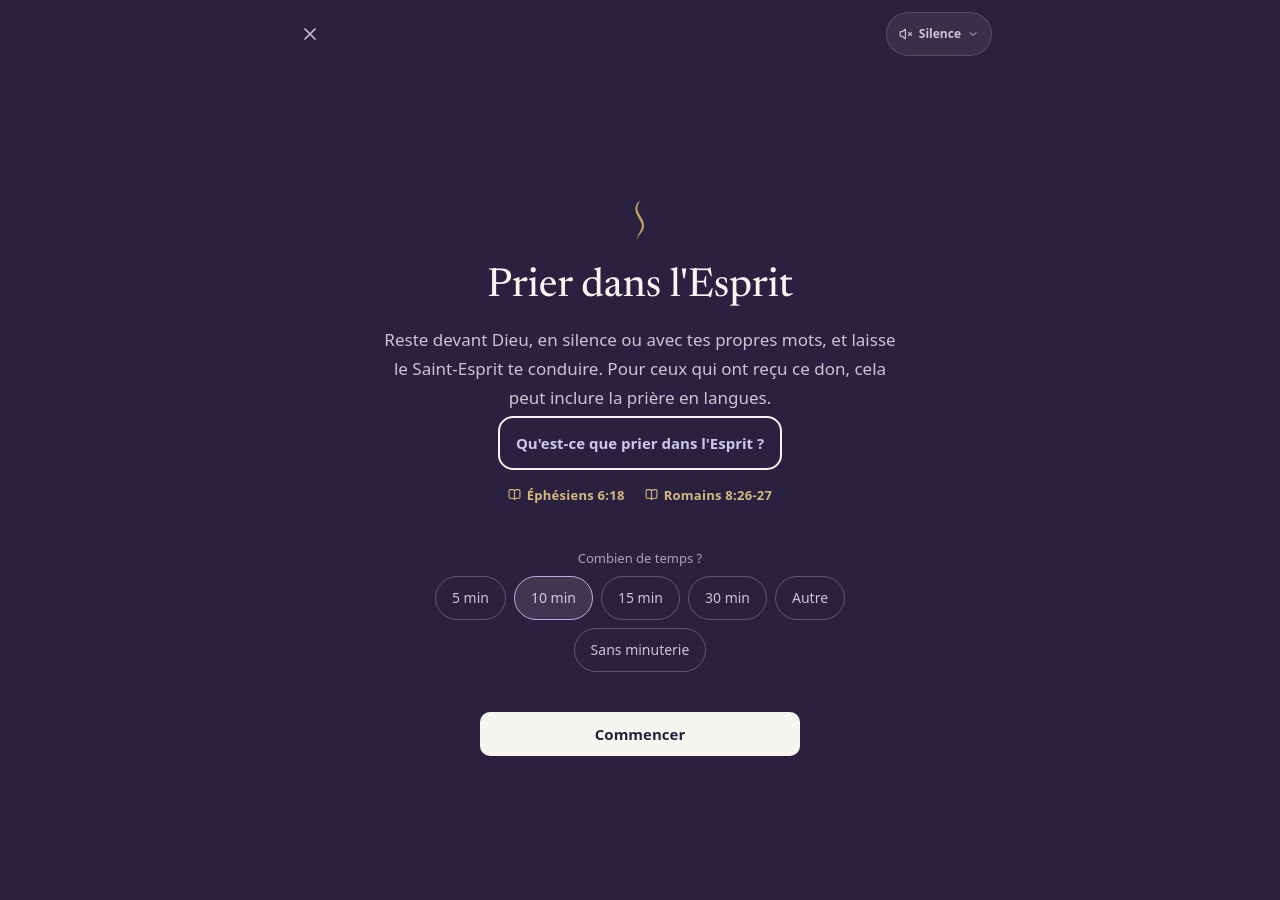
Test case: PrayInTheSpirit › without a timer, stays until the person finishes
The width and height of the screenshot is (1280, 900).
Click the button "Sans minuterie": (640, 650) [574, 628, 706, 672]
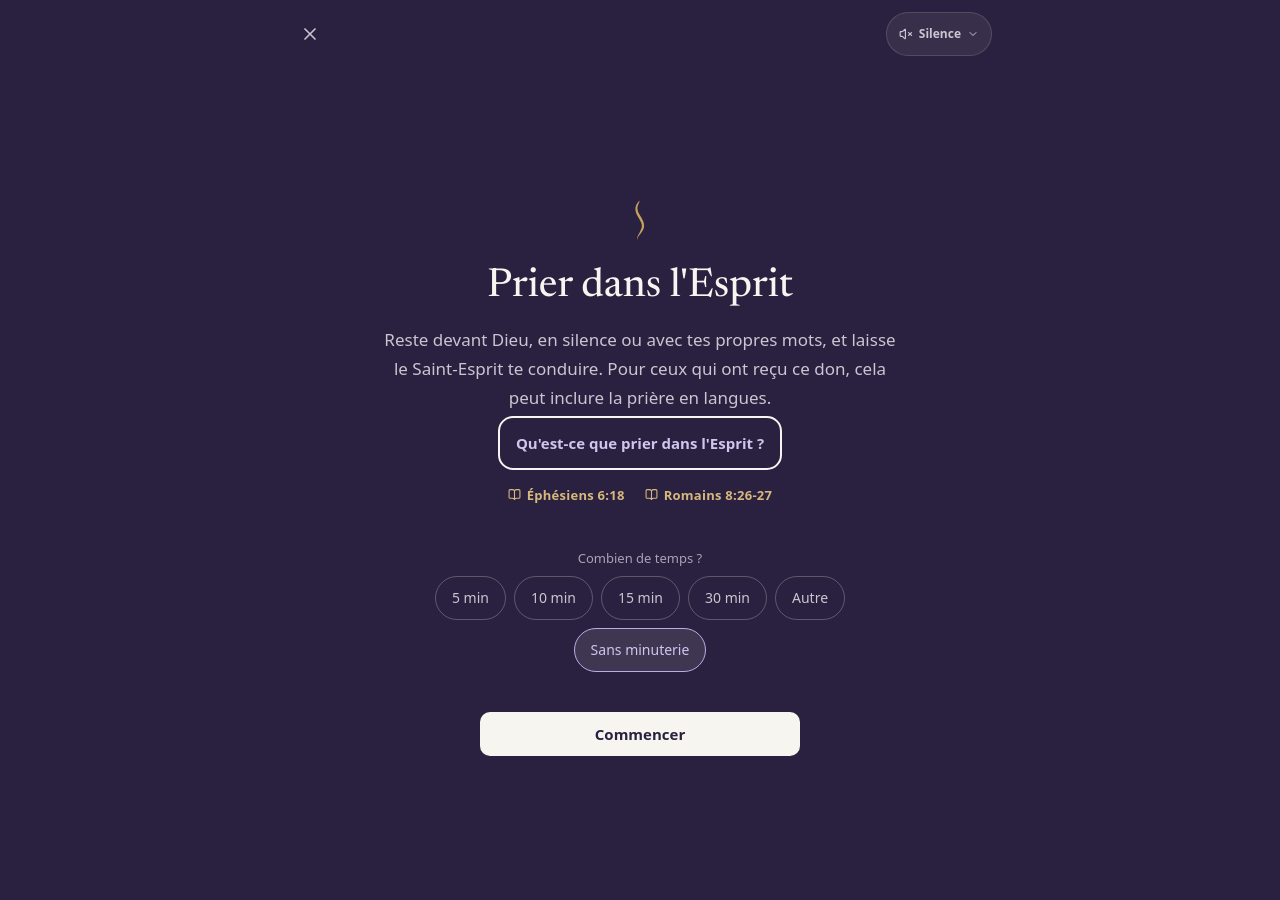
Click the button "Commencer": (640, 734) [480, 712, 800, 756]
Wait 10000000 ms
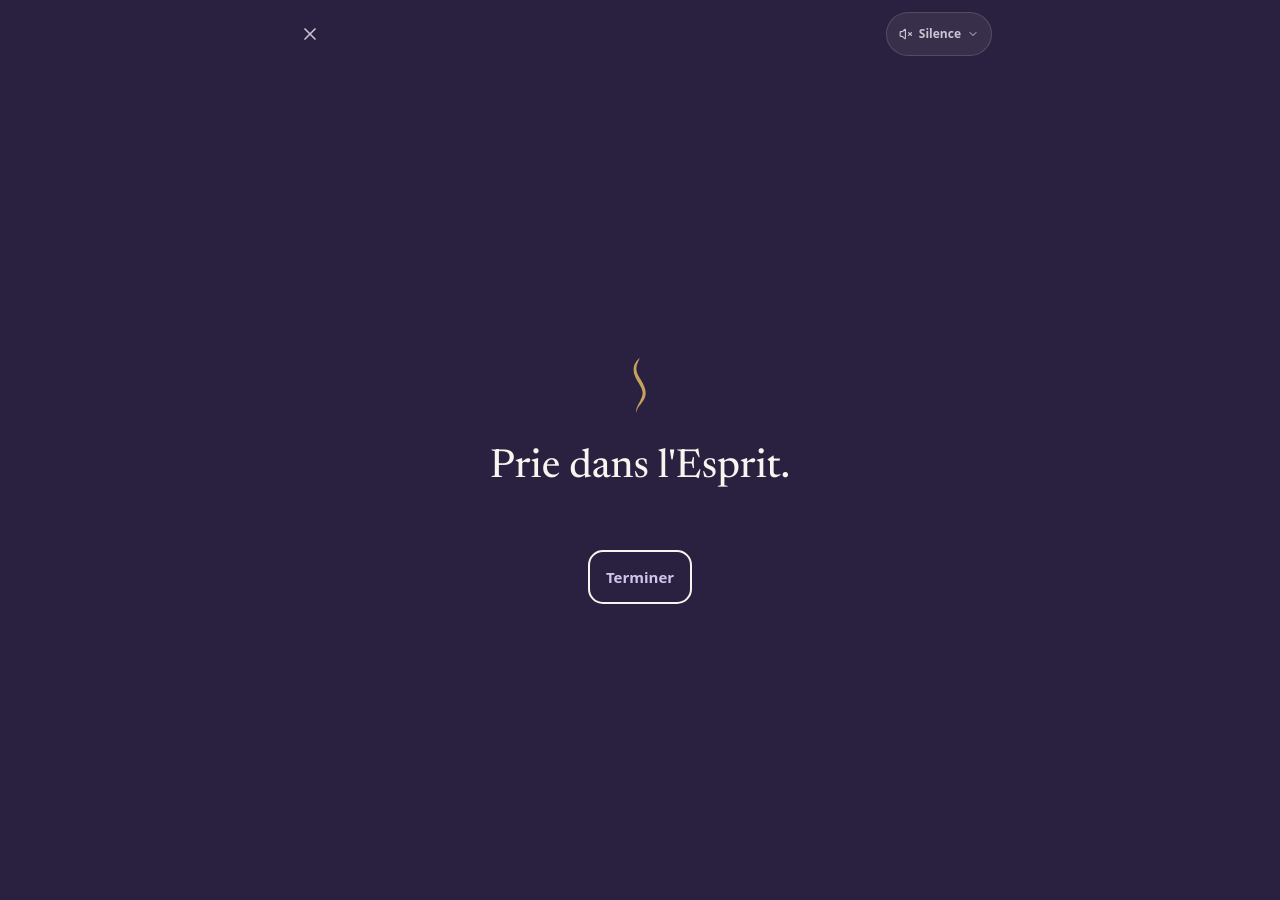
Now the text "Prie dans l'Esprit." is shown, box [490, 445, 790, 491]
